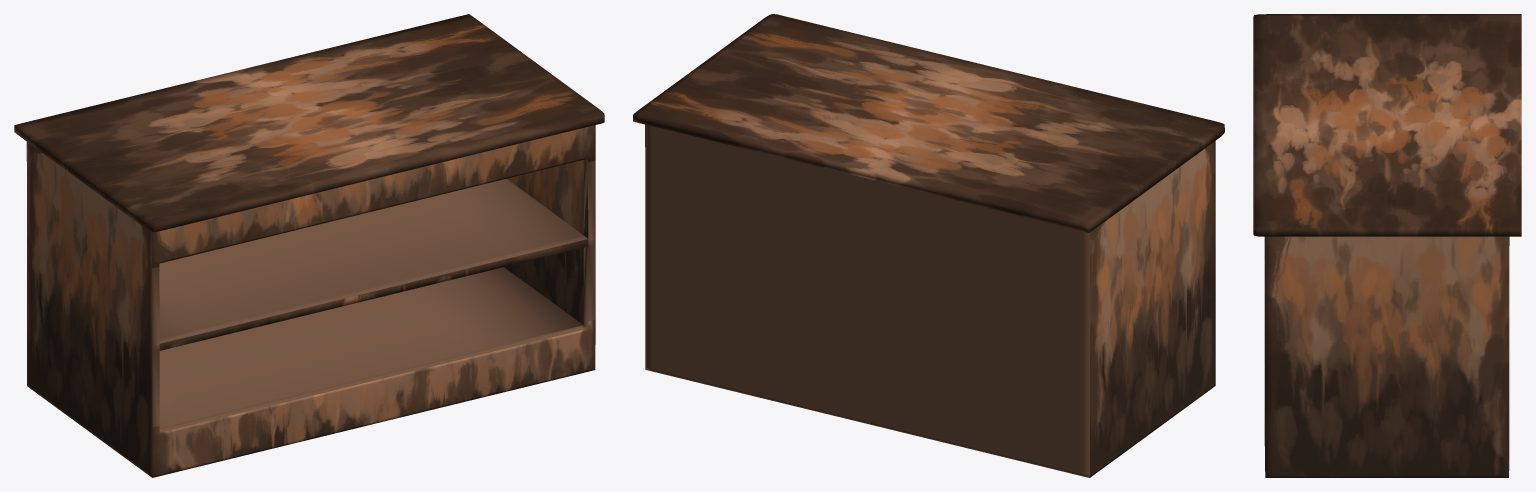
The model's file is Not_drawer.fbx.
3 renders of one model, left to right at view 1: azimuth 30°, elevation 25°; view 2: azimuth 150°, elevation 25°; view 3: azimuth 270°, elevation 25°, orthographic. The views are drawn at different scales.
Parts seen in each view (by area): view 1: Tumba; view 2: Tumba; view 3: Tumba.
Part boxes in pixels (x1,y1,x2,y2): Tumba: [14, 14, 604, 477]; Tumba: [633, 14, 1224, 477]; Tumba: [1253, 14, 1521, 477].
Size of the model in its own units: 172 by 93.28 by 90.3.
1 material, 1 textured.
